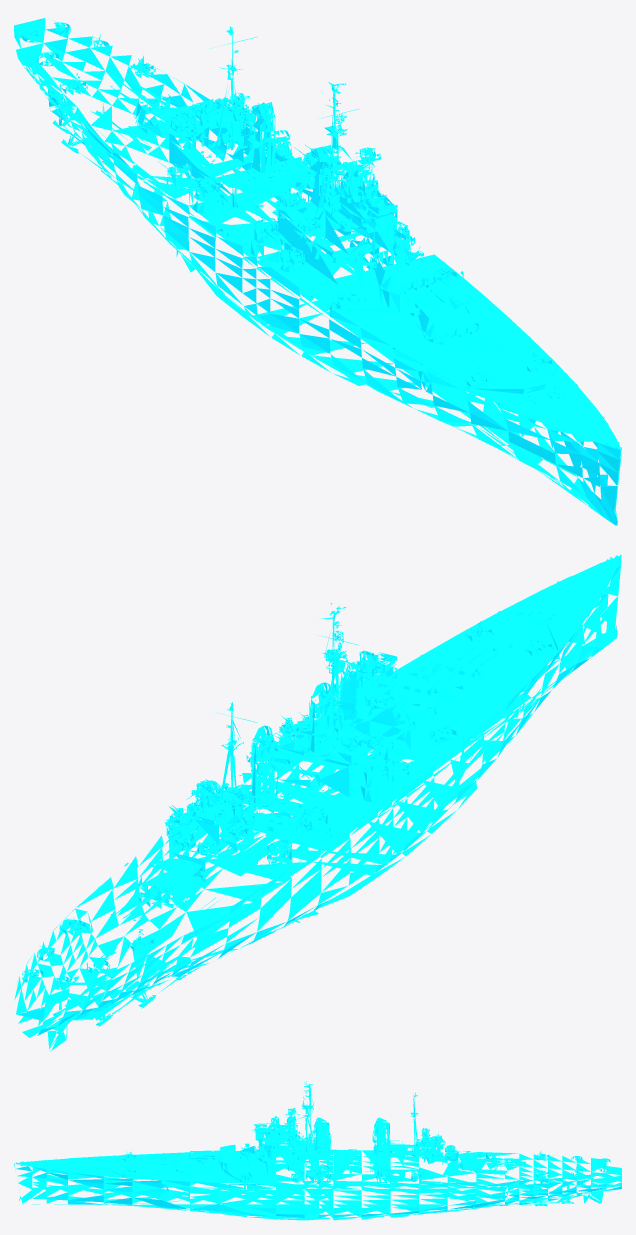
The model's file is Lion.glb.
3 renders of one model, top to bottom at view 1: azimuth 30°, elevation 25°; view 2: azimuth 150°, elevation 25°; view 3: azimuth 270°, elevation 25°, orthographic. The views are drawn at different scales.
Size of the model in its own units: 2.27 by 3.53 by 15.95.
